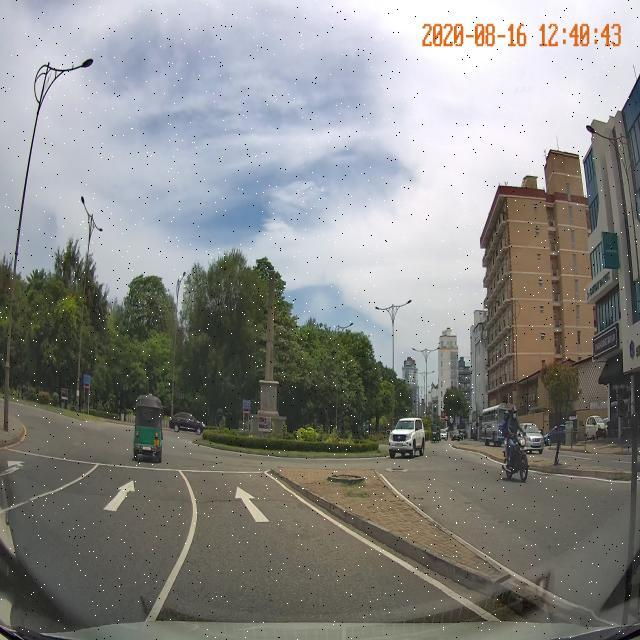forward: (177, 475, 354, 530)
